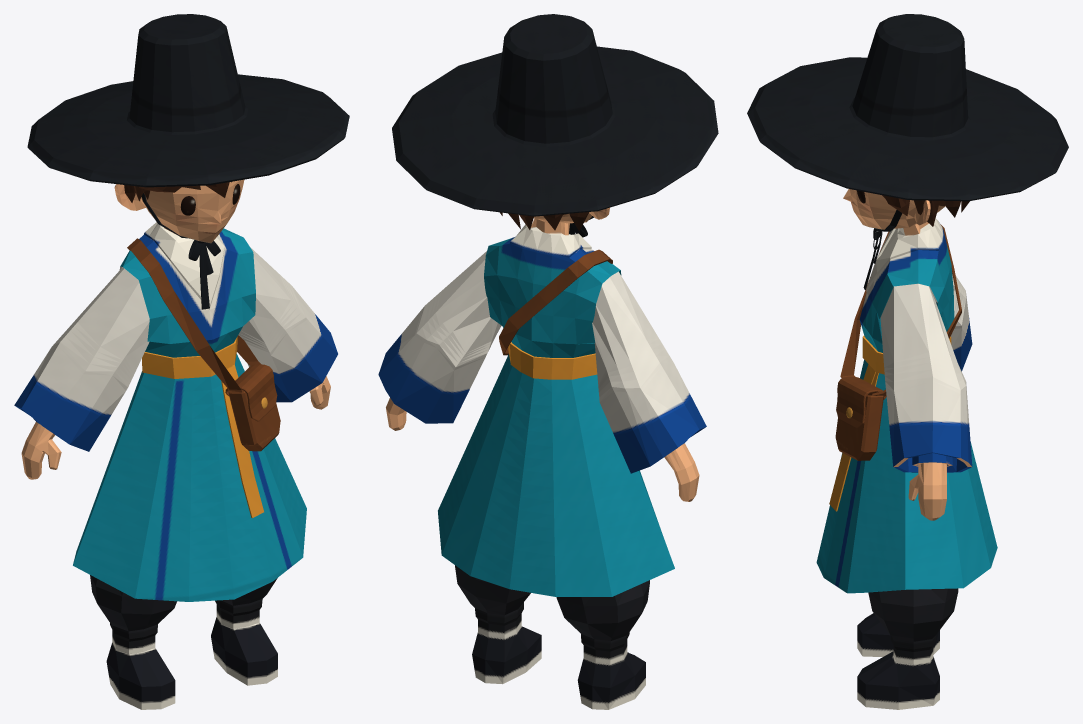
File: Cheon_Player_Mixamo.obj
3 renders of one model, left to right at view 1: azimuth 30°, elevation 25°; view 2: azimuth 150°, elevation 25°; view 3: azimuth 270°, elevation 25°, orthographic.
Parts seen in each view (by area): view 1: Cheon_Player; view 2: Cheon_Player; view 3: Cheon_Player.
Boxes of the visible parts, box(x1,y1,x2,y2) form: Cheon_Player: box(14, 14, 349, 709); Cheon_Player: box(378, 14, 718, 709); Cheon_Player: box(747, 14, 1068, 709).
Size of the model in its own units: 1.08 by 2.16 by 0.9748.
Materials: 1 (1 with a texture image).
